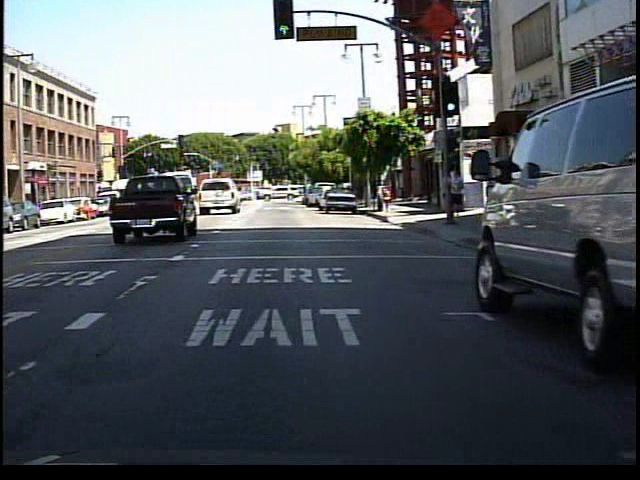person: (444, 161, 468, 222)
